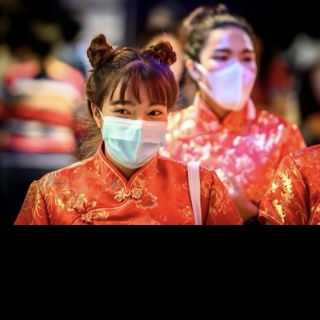with_mask: (99, 91, 167, 169), (198, 41, 259, 112)
